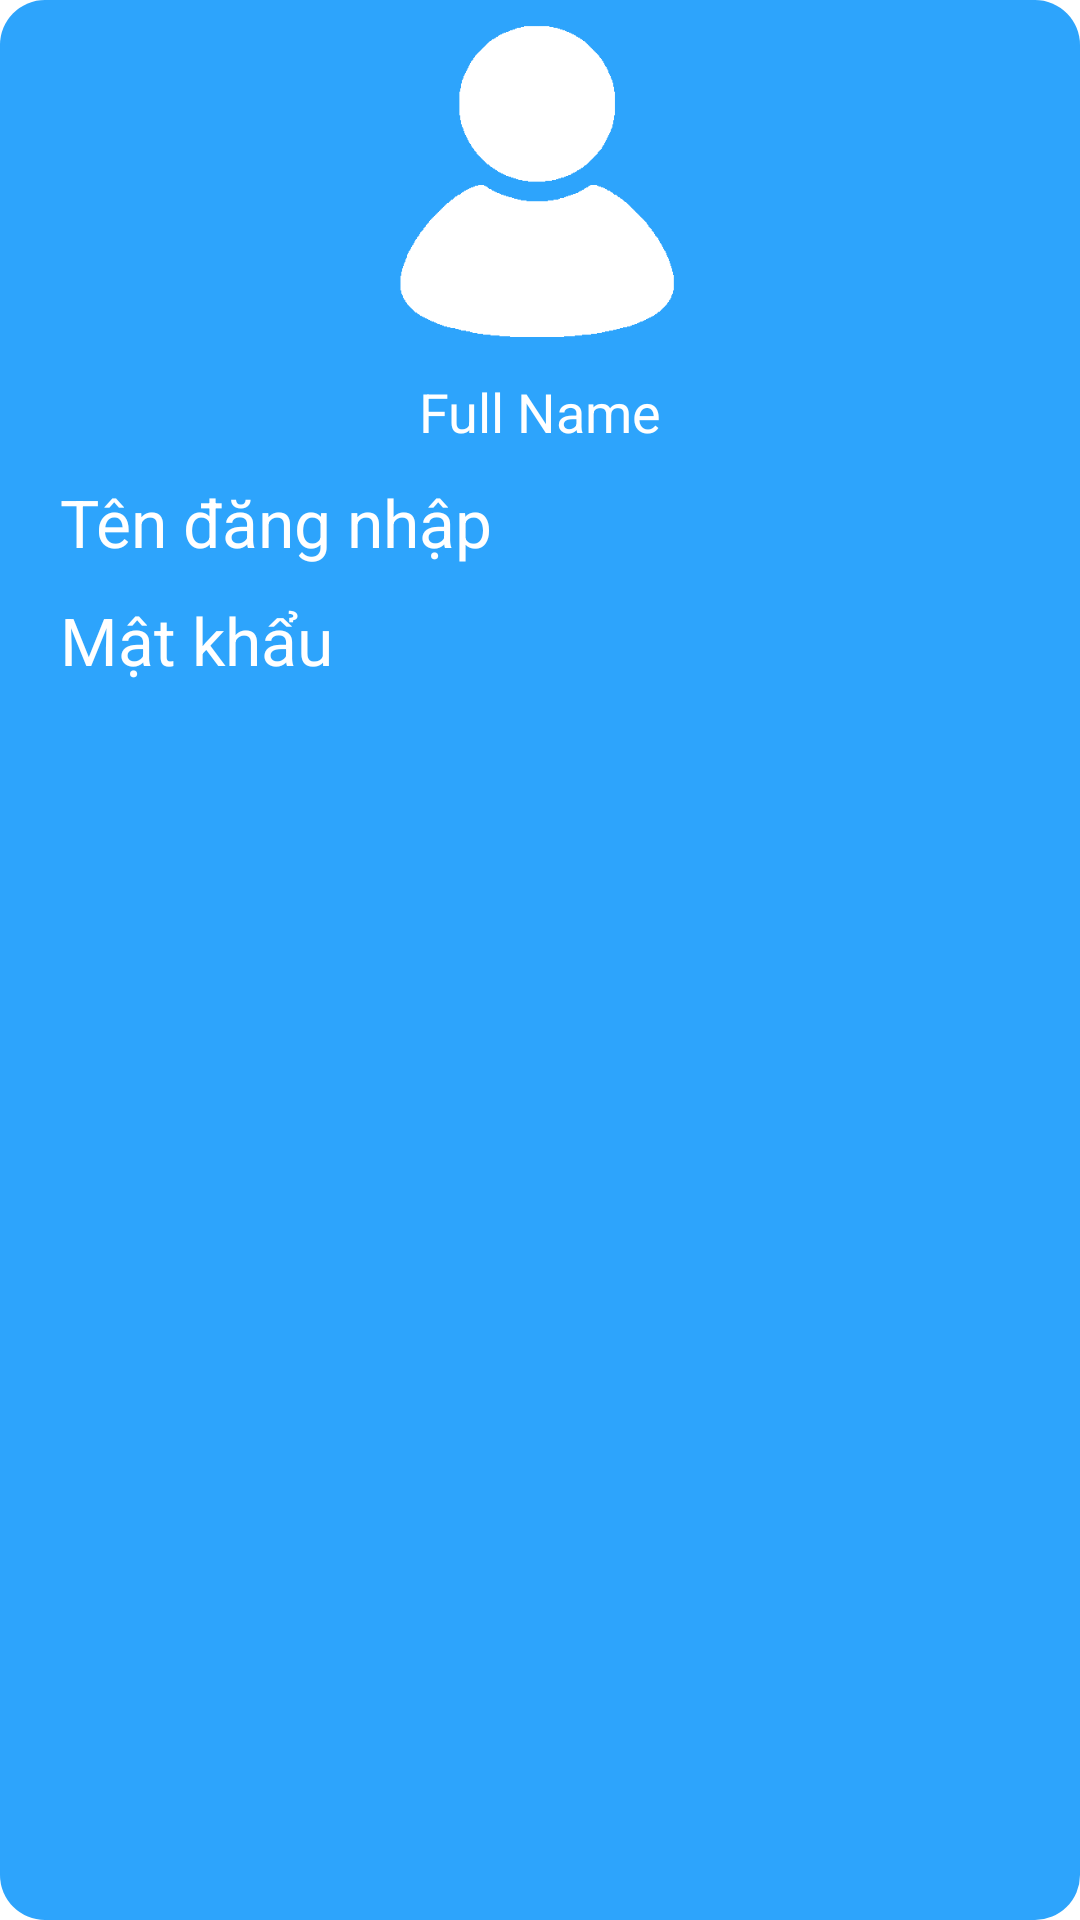

Locate icon controls on the screen. Image size 1080px x 1920px, boxes as (x1, y1, x2, y2).
person: (400, 26, 674, 337)
